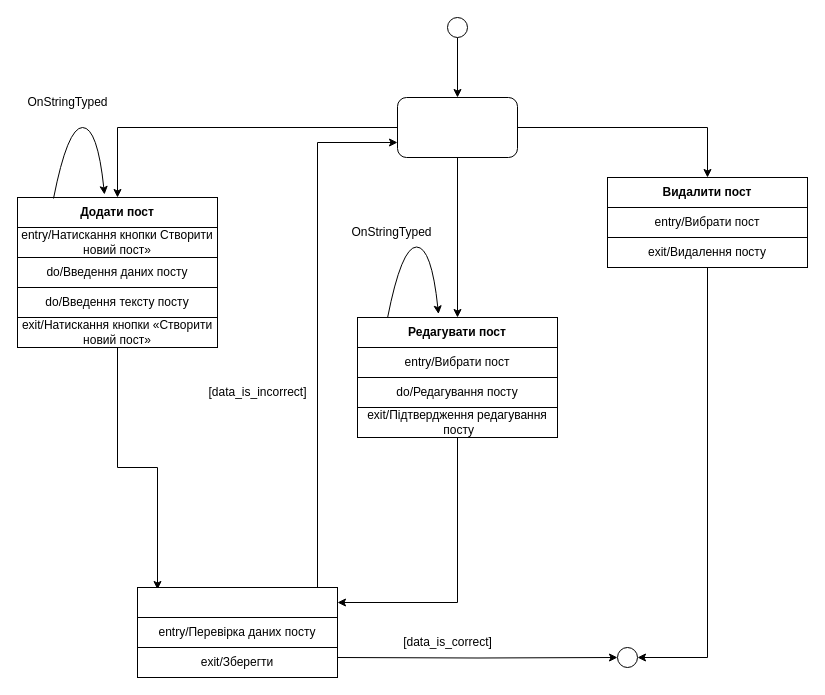
The diagram is 825 pixels wide and 695 high, and some of its shapes have lost their labels. Each missing label, with the box of its shape:
Оберіть дію: (396, 96, 518, 158)
Перевірка даних: (136, 586, 338, 618)
